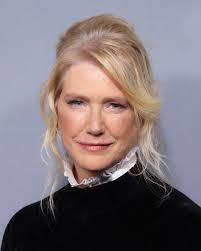Persons: (35, 12, 172, 190)
